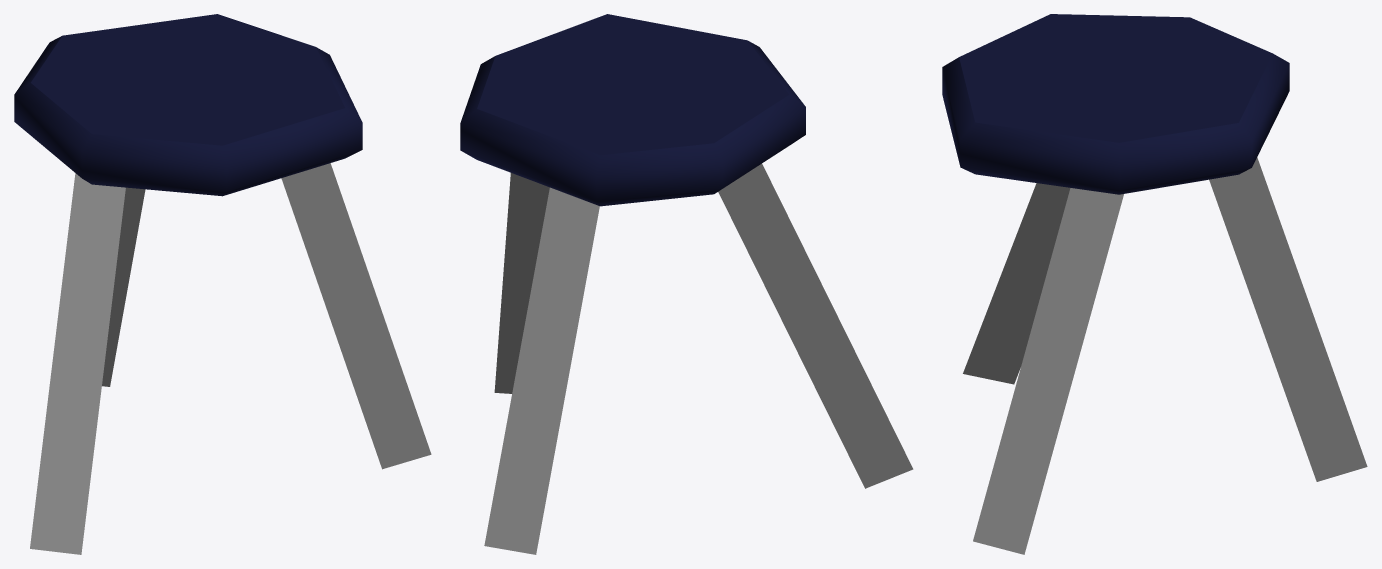
Rendered from MDL_taburete.FBX.
The picture shows the model from 3 angles, left to right: view 1: azimuth 30°, elevation 25°; view 2: azimuth 150°, elevation 25°; view 3: azimuth 270°, elevation 25°; orthographic projection. The views are drawn at different scales.
Parts seen in each view (by area): view 1: Cylinder006; view 2: Cylinder006; view 3: Cylinder006.
Part boxes in pixels (box(x1,y1,x2,y2)): Cylinder006: box(14, 14, 431, 554); Cylinder006: box(460, 14, 913, 554); Cylinder006: box(942, 14, 1367, 554).
Size of the model in its own units: 22.85 by 21.4 by 20.66.
